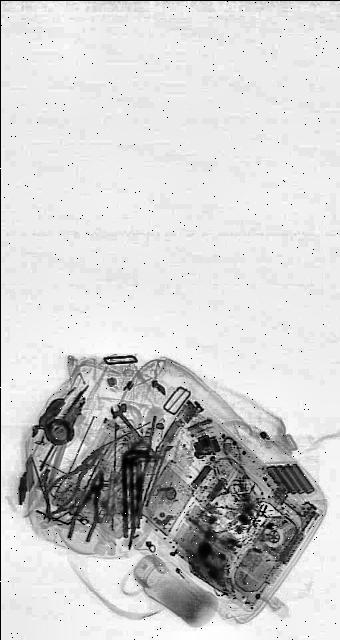Pliers: (43, 432, 103, 522), (66, 461, 110, 554)
Wrench: (110, 397, 154, 455)
